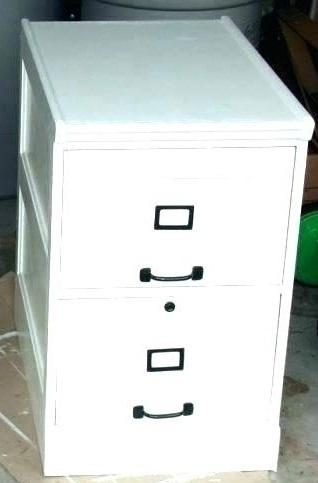cabinet_door: (60, 292, 275, 450), (61, 153, 290, 287)
handle: (130, 398, 196, 426), (139, 261, 205, 288)
